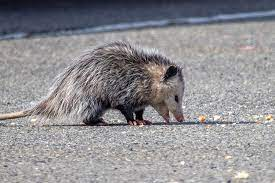opossum: (9, 44, 189, 122)
